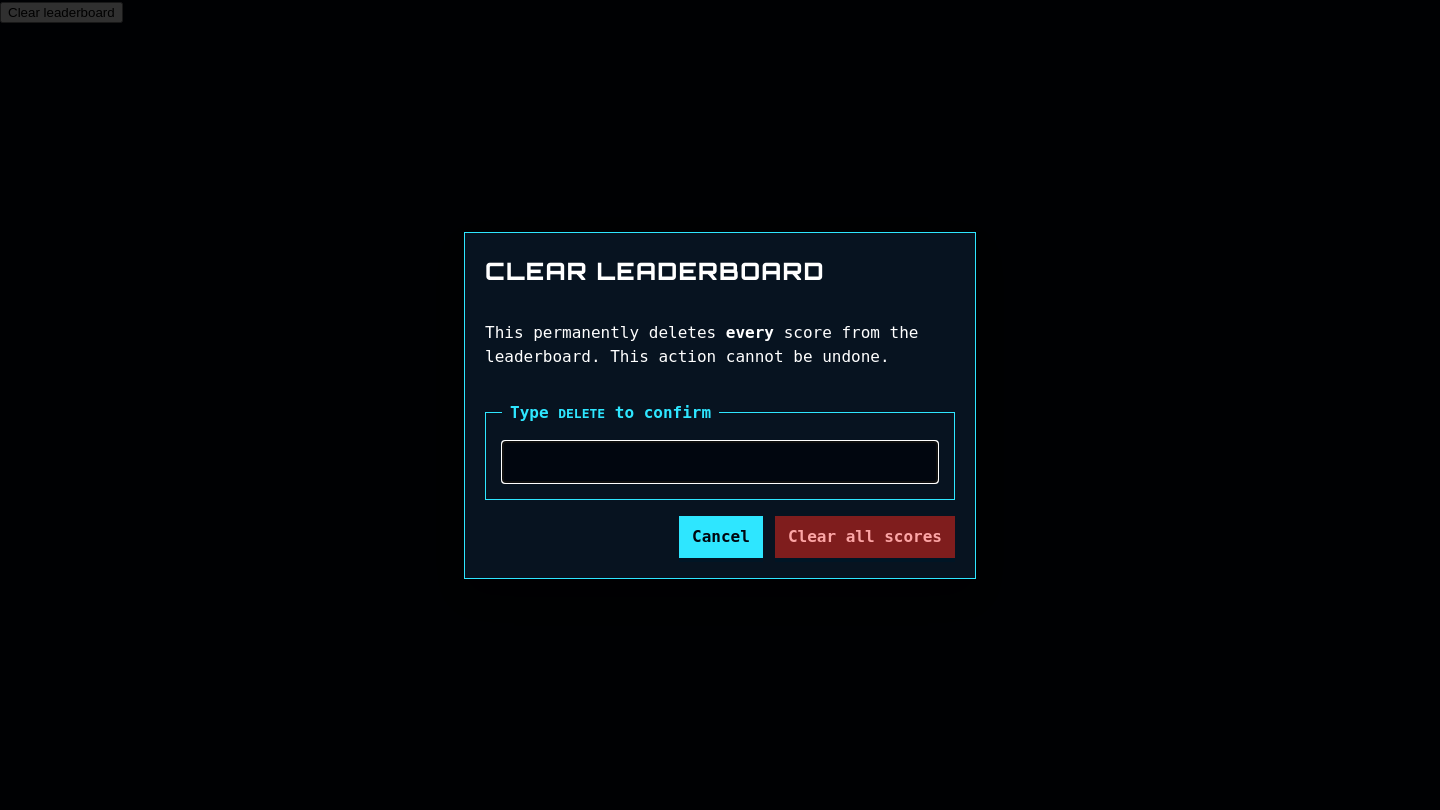
it: PurgeDialog › keeps the dialog open and shows the API error when the purge fails
Type "DELETE" into the field labelled "Type DELETE to confirm" at (720, 462), box [502, 440, 938, 482]
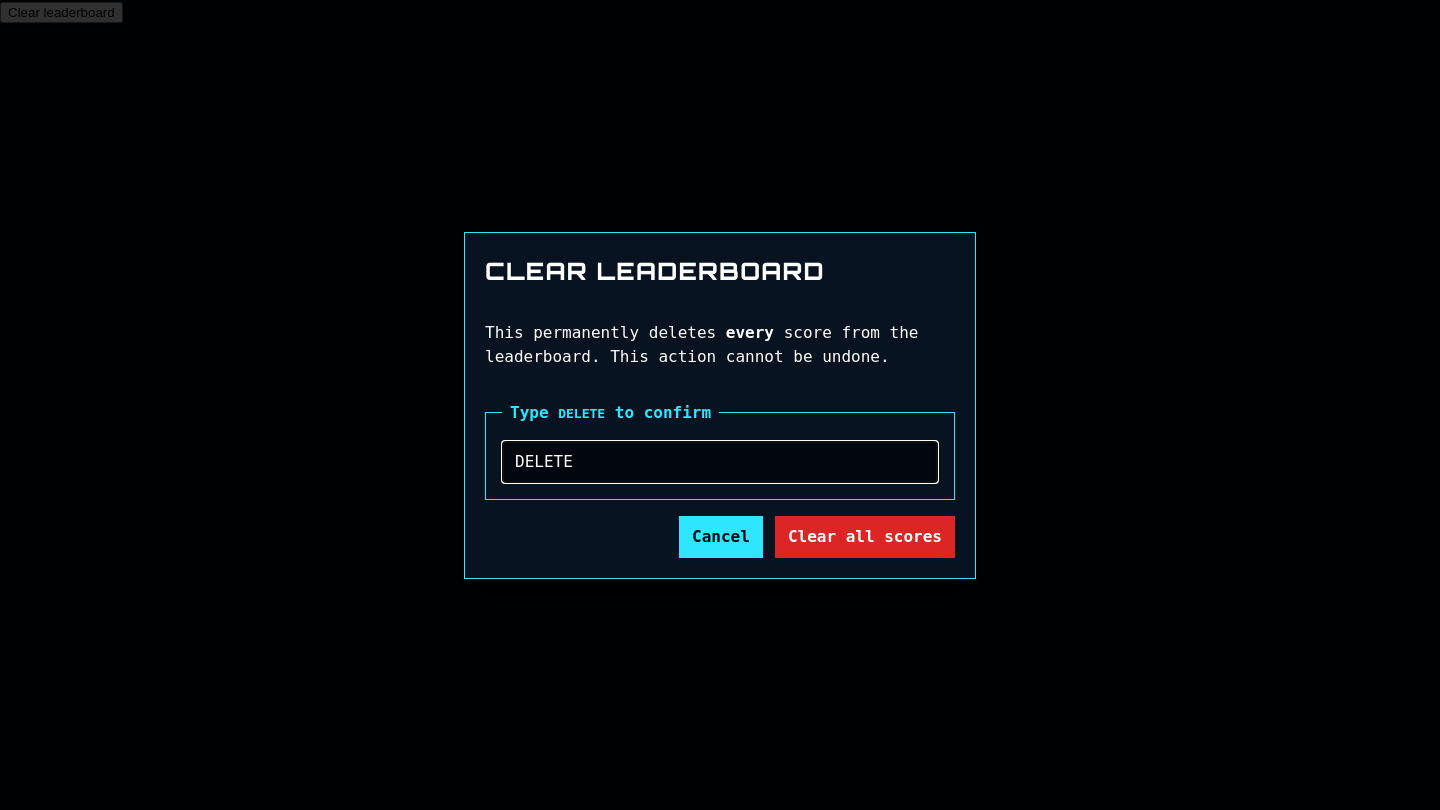
Click the button "Clear all scores" at (865, 536), box [775, 516, 955, 558]
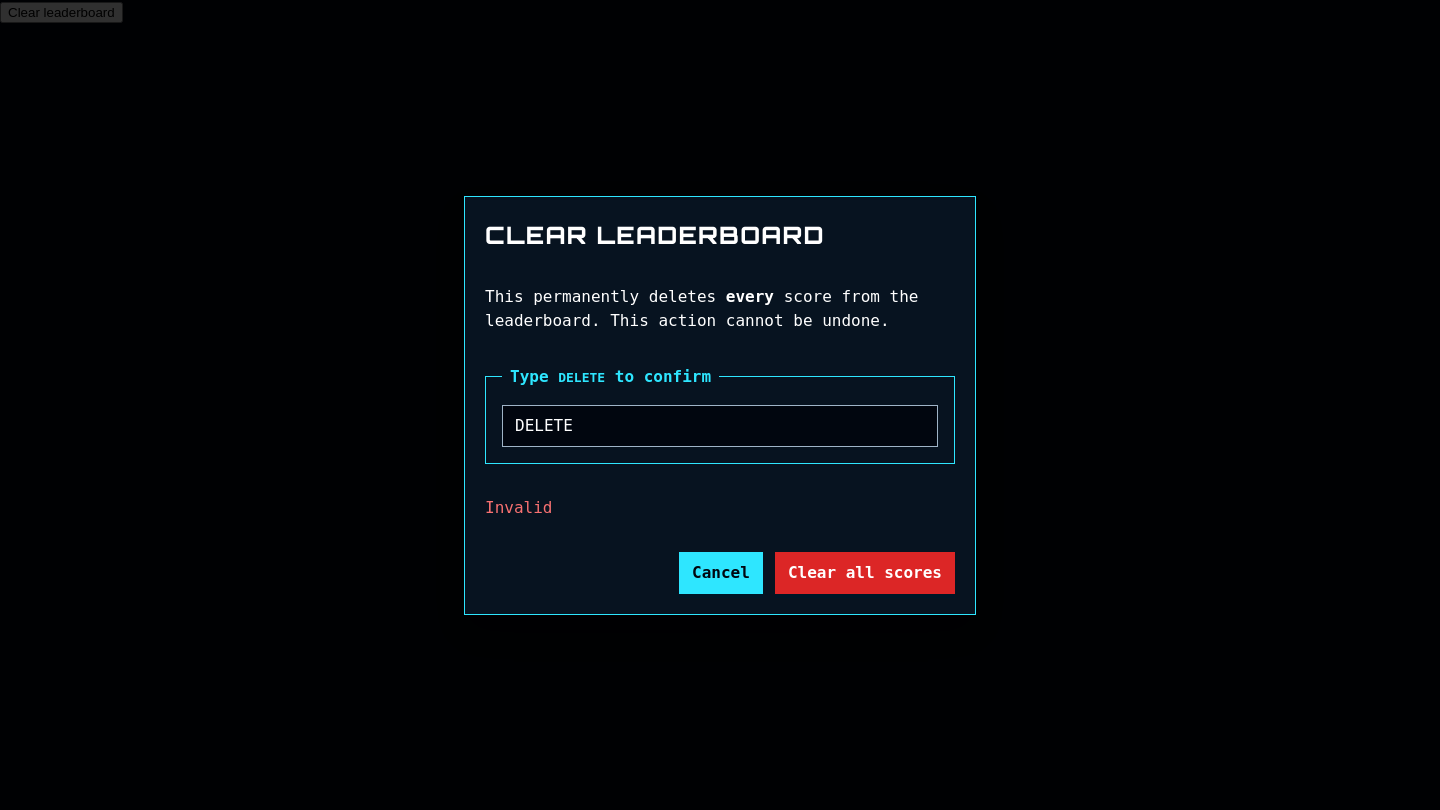
Expected: the dialog is shown, [464, 196, 976, 614]
Expected: the text "Invalid" is shown, [485, 498, 552, 516]
